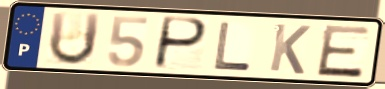5: (105, 15, 151, 69)
E: (314, 23, 373, 80)
K: (267, 21, 313, 76)
L: (212, 20, 254, 72)
P: (151, 15, 210, 72)
U: (46, 10, 103, 68)
